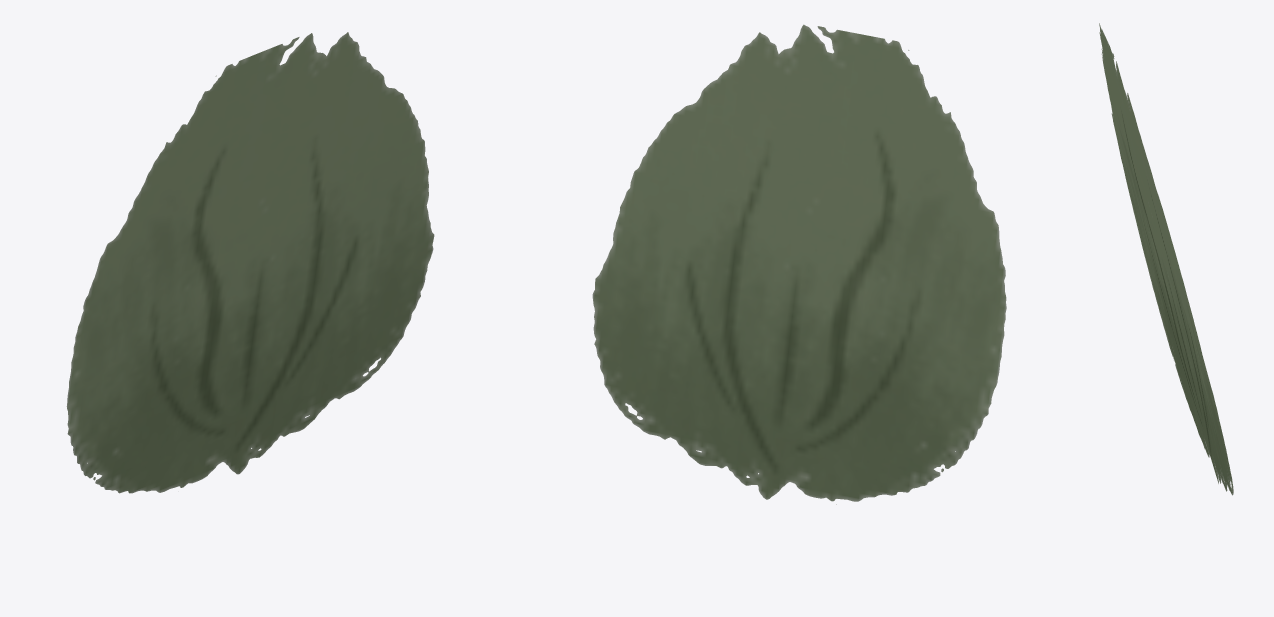
The model's file is tree4_001.fbx.
3 views of the same model, side by side, from view 1: azimuth 30°, elevation 25°; view 2: azimuth 150°, elevation 25°; view 3: azimuth 270°, elevation 25° (orthographic). The views are drawn at different scales.
Visible parts, largest first — view 1: tree4.001; view 2: tree4.001; view 3: tree4.001.
Boxes of the visible parts, box(x1,y1,x2,y2) form: tree4.001: box(66, 32, 434, 493); tree4.001: box(592, 24, 1006, 504); tree4.001: box(1099, 23, 1233, 495).
Bounding box in the file's own units: 177 × 183 × 54.41.
